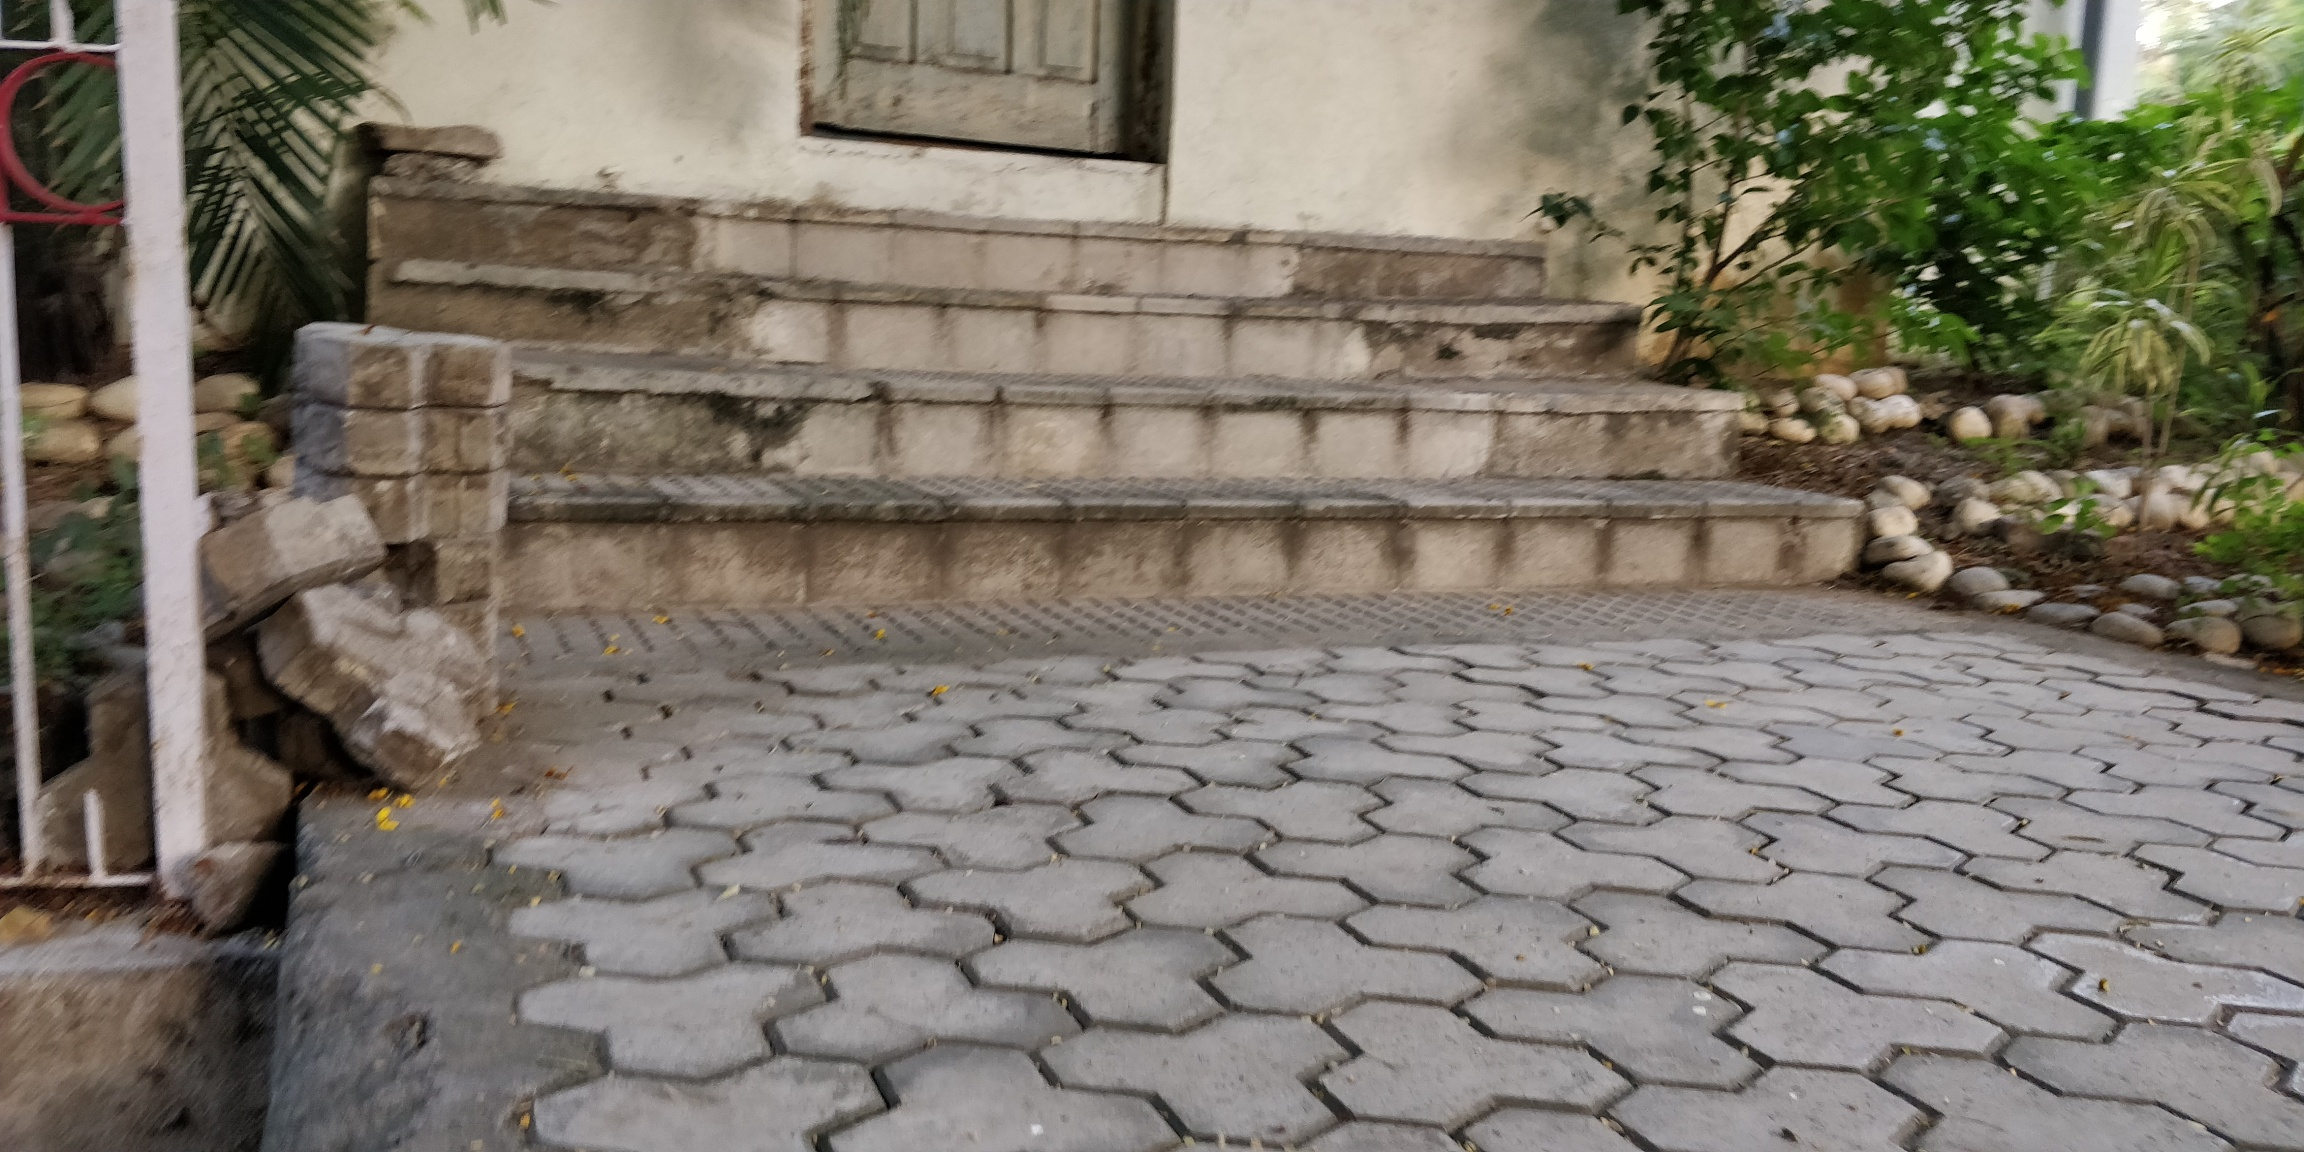stairs_up: (458, 198, 1818, 652)
